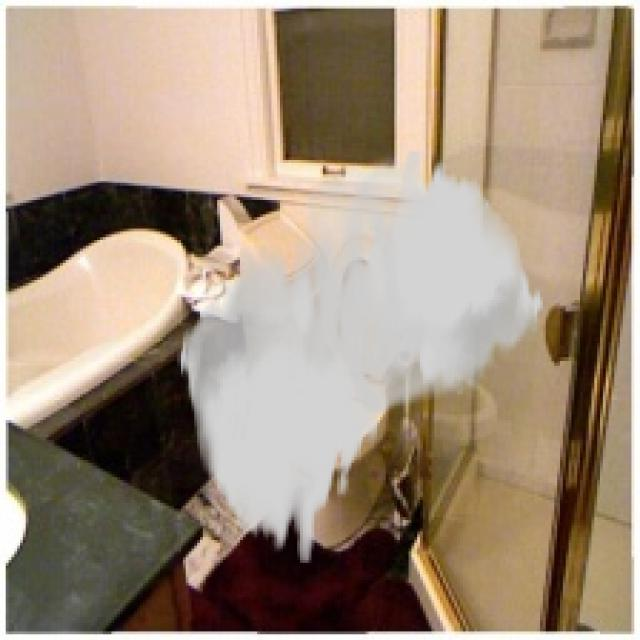smoke: (177, 148, 546, 563)
